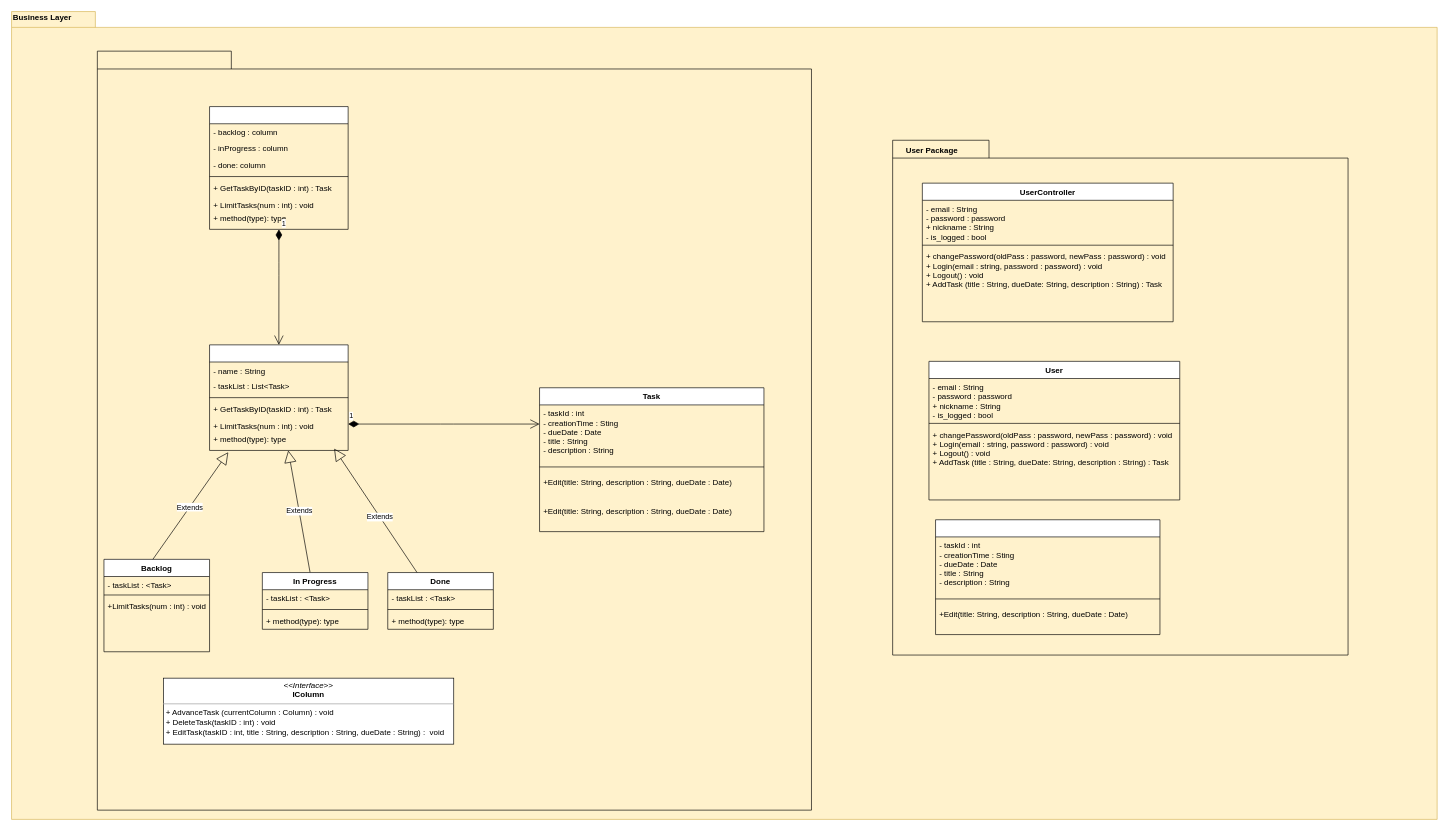
Image size: 1449x831. Some labels were removed from this diagram. Here are the shapes that lost their labels. From the top down, the box of each, then its label:
(209, 106, 348, 229): Board
(209, 344, 348, 450): Column
(97, 50, 811, 810): Board Package
(935, 519, 1160, 635): Password
